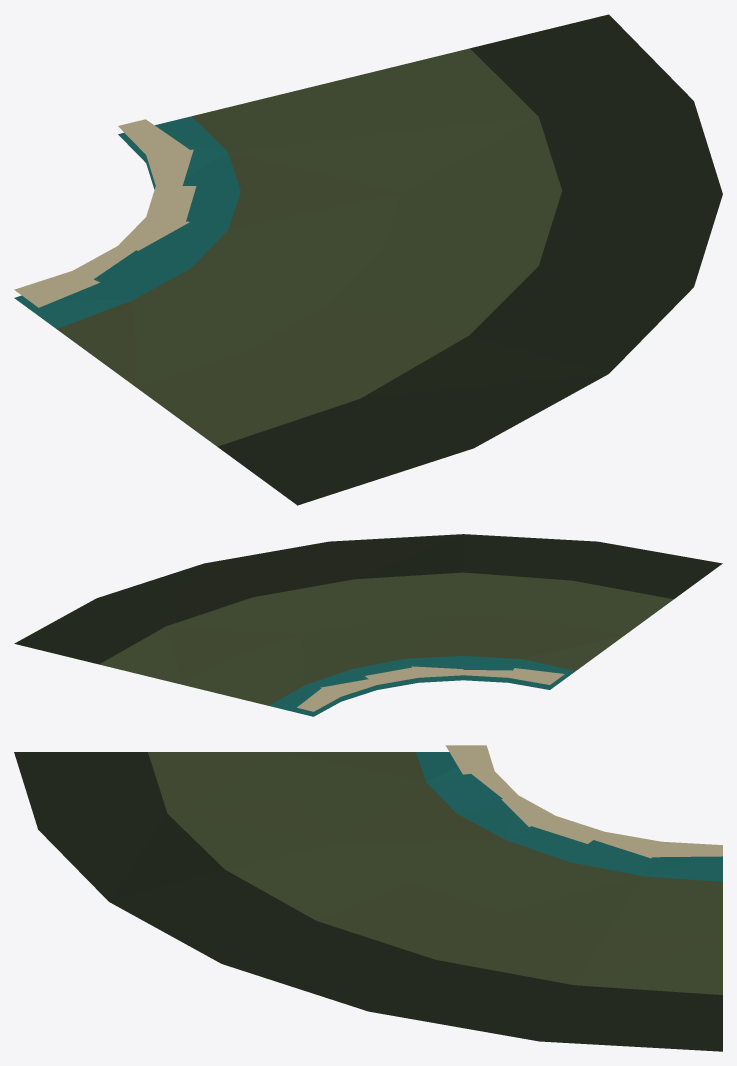
File: drowned_water_shore_corner.glb
3 views of the same model, one above another, from view 1: azimuth 30°, elevation 25°; view 2: azimuth 150°, elevation 25°; view 3: azimuth 270°, elevation 25° (orthographic). The views are drawn at different scales.
Parts seen in each view (by area): view 1: drowned_water_shore_corner; view 2: drowned_water_shore_corner; view 3: drowned_water_shore_corner.
Part boxes in pixels (bbox=[...]): drowned_water_shore_corner: bbox=[14, 14, 722, 505]; drowned_water_shore_corner: bbox=[14, 534, 722, 716]; drowned_water_shore_corner: bbox=[14, 745, 722, 1051].
Size of the model in its own units: 3 by 0.032 by 3.
